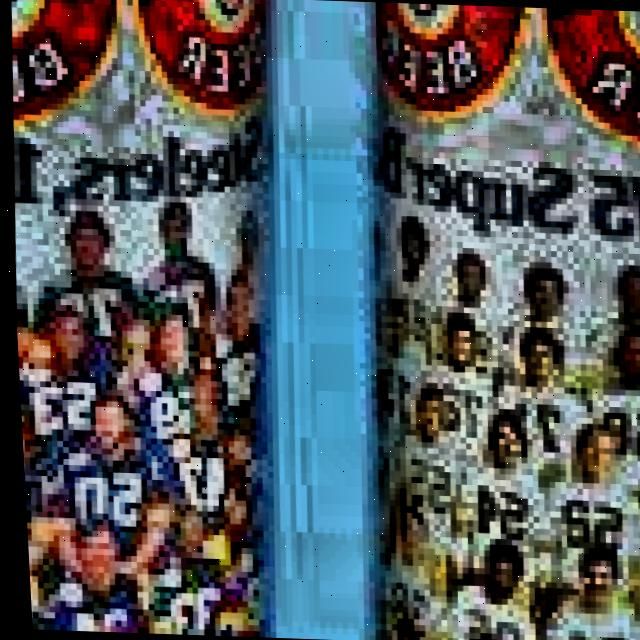metal: (303, 0, 640, 640), (0, 0, 308, 638)
